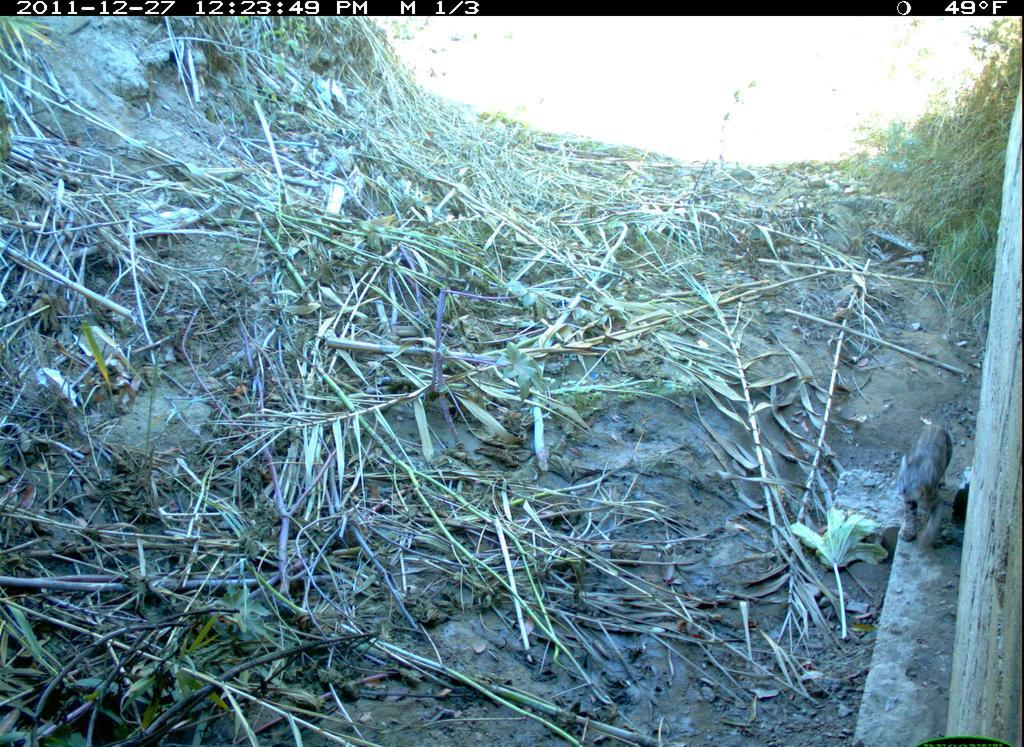bobcat: (890, 410, 964, 551)
